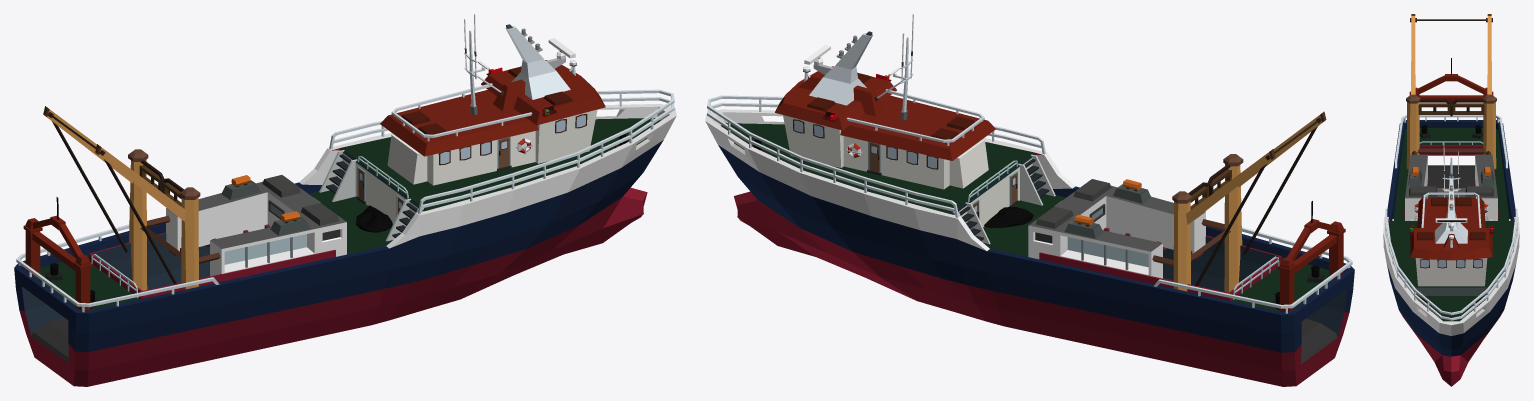
Rendered from Trawler.fbx.
The picture shows the model from 3 angles, left to right: view 1: azimuth 30°, elevation 25°; view 2: azimuth 150°, elevation 25°; view 3: azimuth 270°, elevation 25°; orthographic projection. The views are drawn at different scales.
Visible parts, largest first — view 1: Trawler; view 2: Trawler; view 3: Trawler.
Boxes of the visible parts, bbox=[...] form: Trawler: bbox=[14, 14, 676, 386]; Trawler: bbox=[705, 14, 1354, 386]; Trawler: bbox=[1383, 14, 1519, 386].
Size of the model in its own units: 3530 by 1450 by 899.
